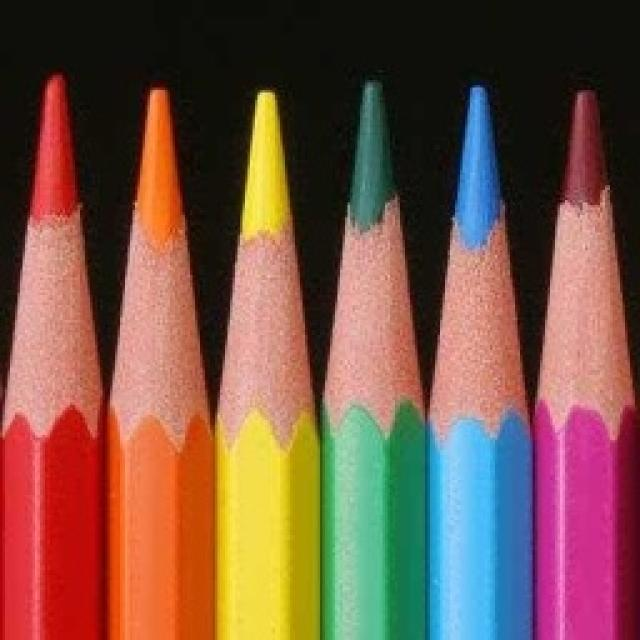pencil: (0, 58, 638, 638)
